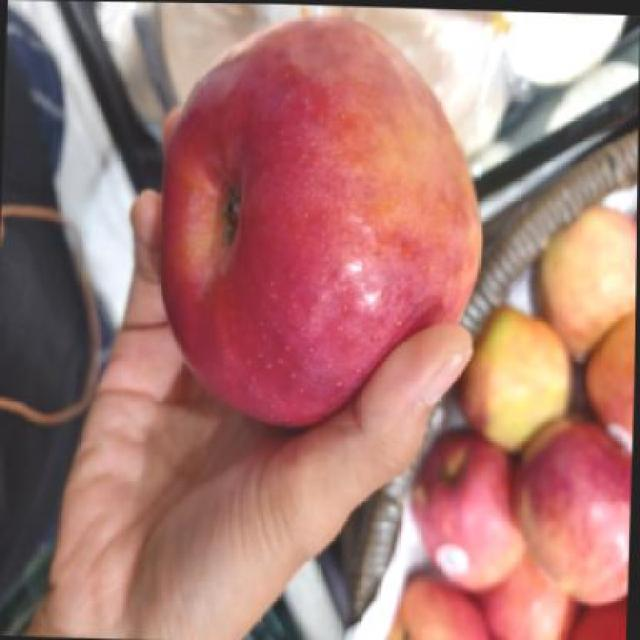Fresh Apple: (143, 37, 482, 435)
